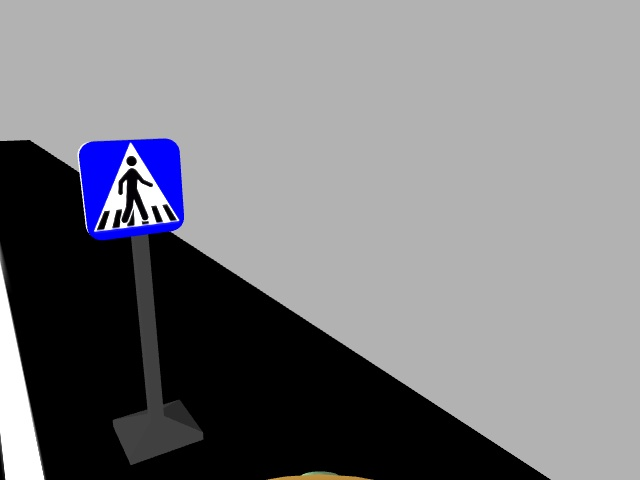Crosswalk: (73, 138, 186, 237)
